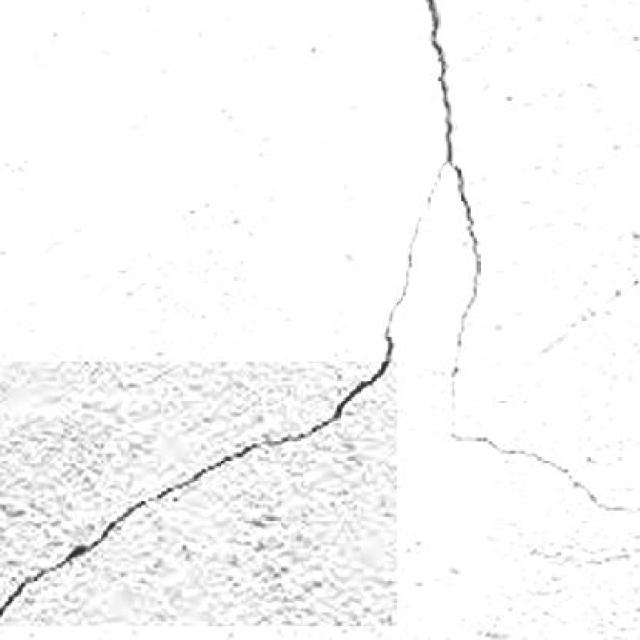Crack: (4, 397, 414, 637), (389, 1, 523, 387), (464, 403, 639, 532)
